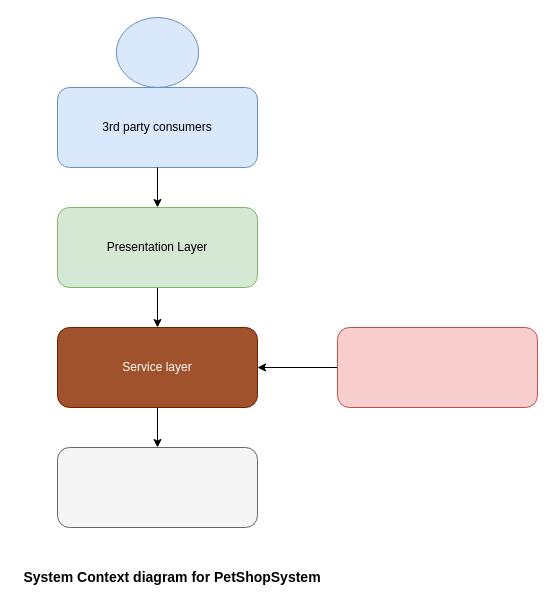
Some shapes in this 555 by 615 pixel diagram are drawn without their labels. Here are the shapes that lost their labels. From the top down, the box of each, then its label:
(336, 326, 538, 408): Business Rules Layer
(56, 446, 258, 528): Data Layer
